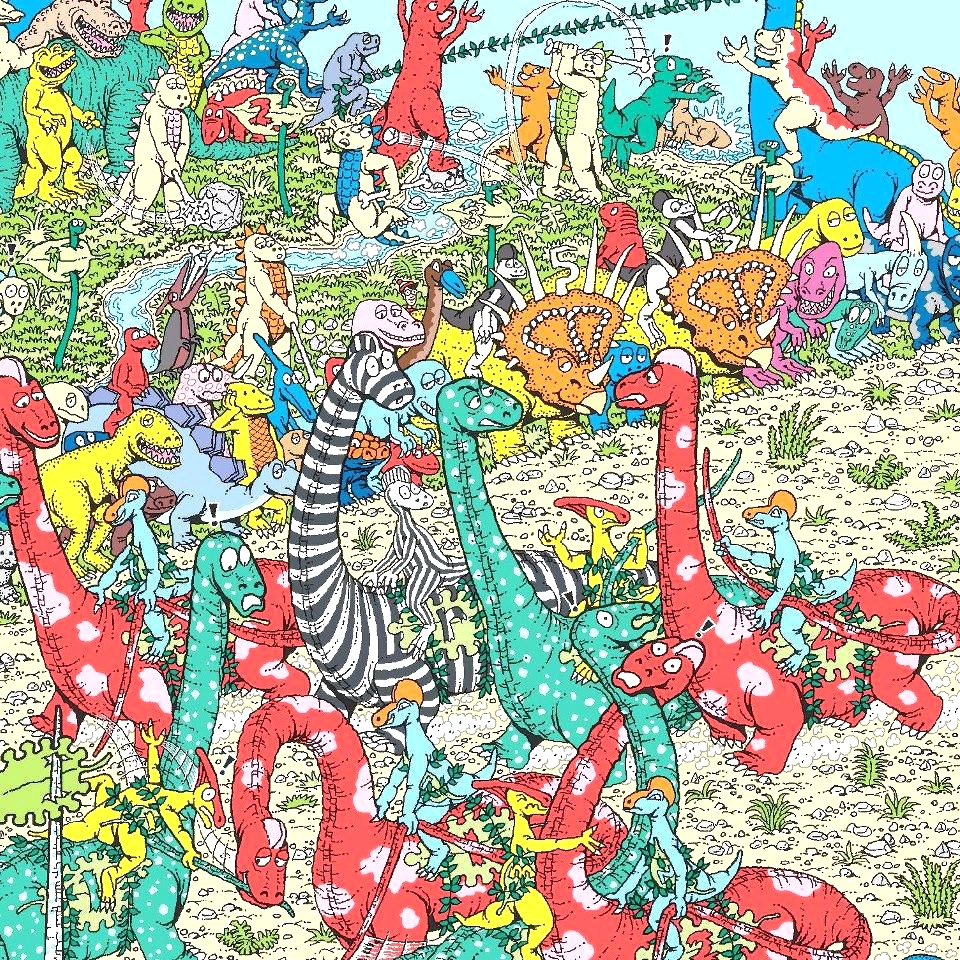waldo: (397, 279, 417, 310)
